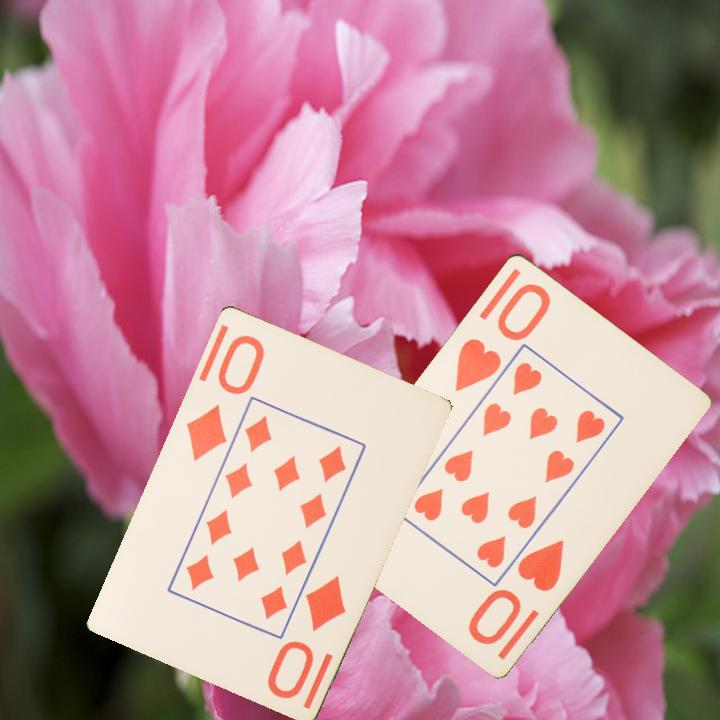10d: (181, 330, 268, 464), (263, 571, 349, 702)
10h: (451, 278, 554, 395), (465, 535, 568, 648)
